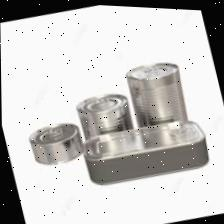metal: (78, 101, 224, 199), (118, 47, 204, 138), (11, 99, 87, 182), (70, 86, 140, 150)
